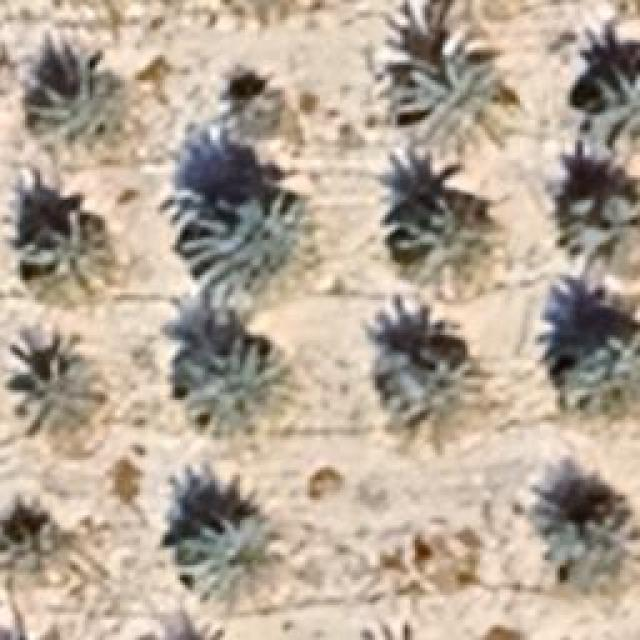PalmTree: (95, 114, 592, 536), (171, 177, 309, 305), (392, 49, 518, 162), (390, 190, 505, 295), (0, 325, 102, 440), (175, 340, 288, 435), (390, 350, 495, 448), (22, 58, 130, 152), (180, 515, 282, 603), (18, 208, 118, 288), (550, 327, 638, 415), (560, 188, 638, 282), (5, 498, 83, 590), (592, 68, 638, 170), (83, 89, 260, 114), (405, 0, 524, 27), (216, 0, 306, 25), (214, 0, 306, 18), (352, 620, 420, 638)
